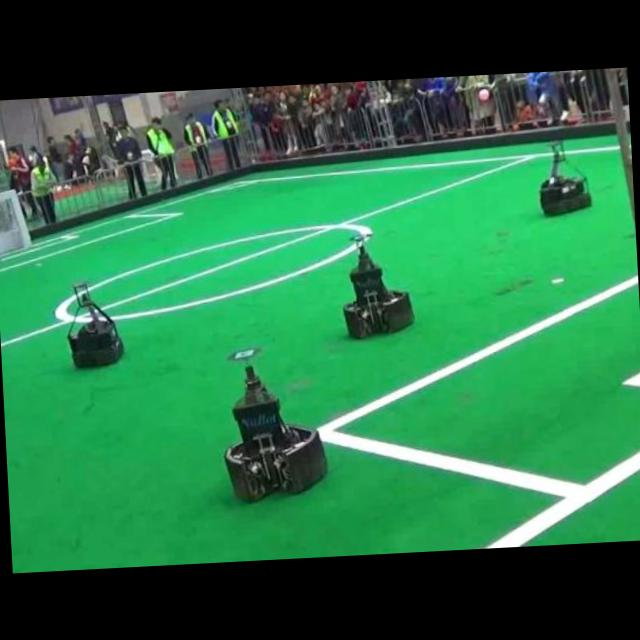goal: (10, 189, 30, 246)
robot: (225, 365, 326, 500), (344, 241, 413, 337), (67, 282, 122, 366), (540, 140, 592, 213)
